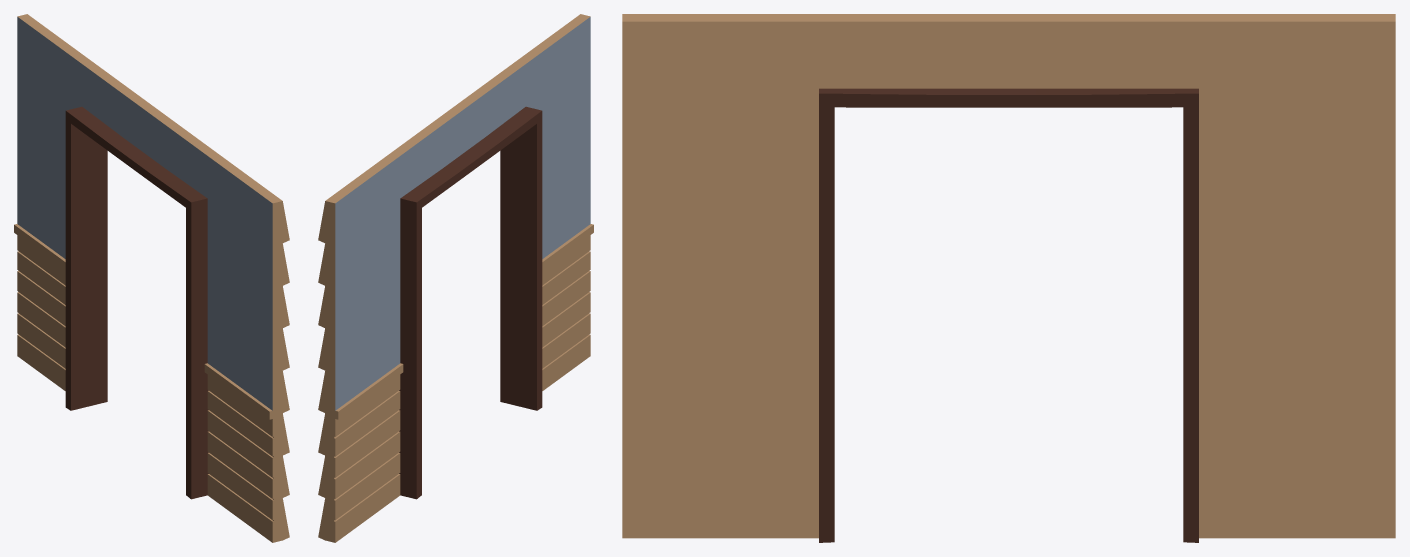
Rendered from Saloon Door C_001-col.glb.
3 views of the same model, side by side, from view 1: azimuth 30°, elevation 25°; view 2: azimuth 150°, elevation 25°; view 3: azimuth 270°, elevation 25° (orthographic). The views are drawn at different scales.
Visible parts, largest first — view 1: Saloon Door C_001-col; view 2: Saloon Door C_001-col; view 3: Saloon Door C_001-col.
Part boxes in pixels (x1,y1,x2,y2): Saloon Door C_001-col: [14, 14, 289, 542]; Saloon Door C_001-col: [318, 14, 593, 542]; Saloon Door C_001-col: [622, 14, 1395, 542].
Size of the model in its own units: 0.25 by 2.2 by 3.
